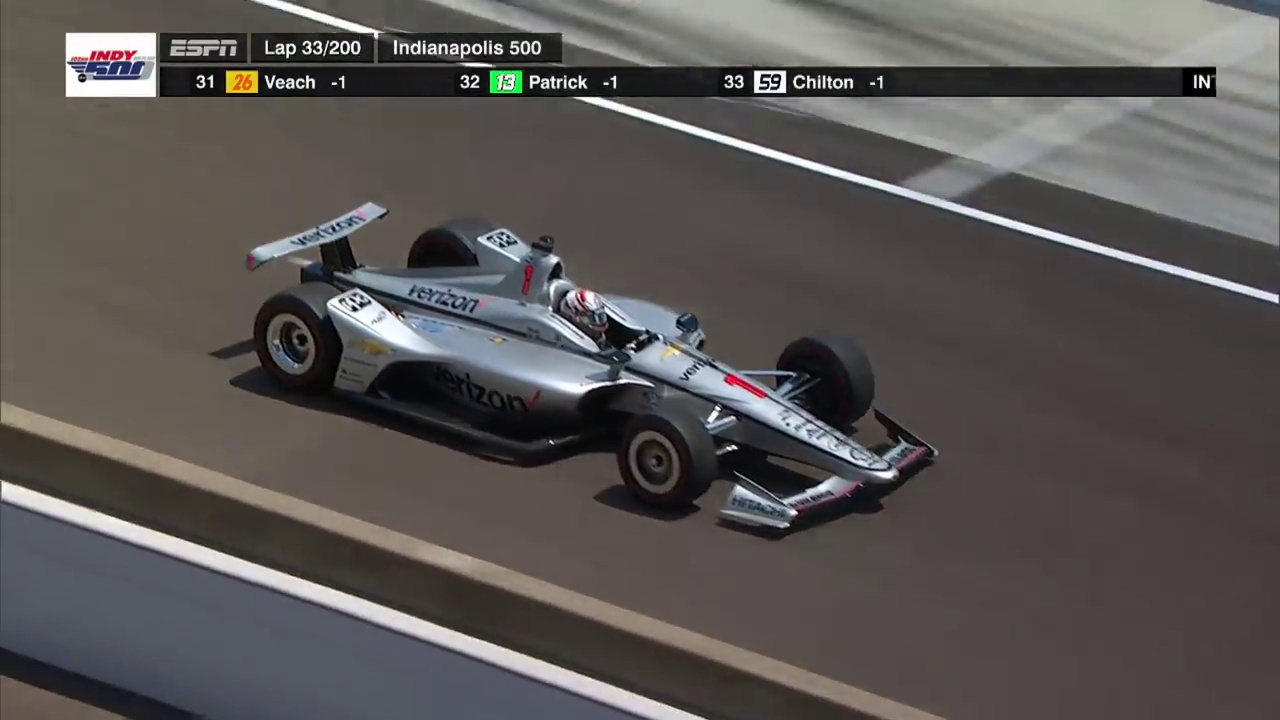car: (234, 177, 955, 574)
